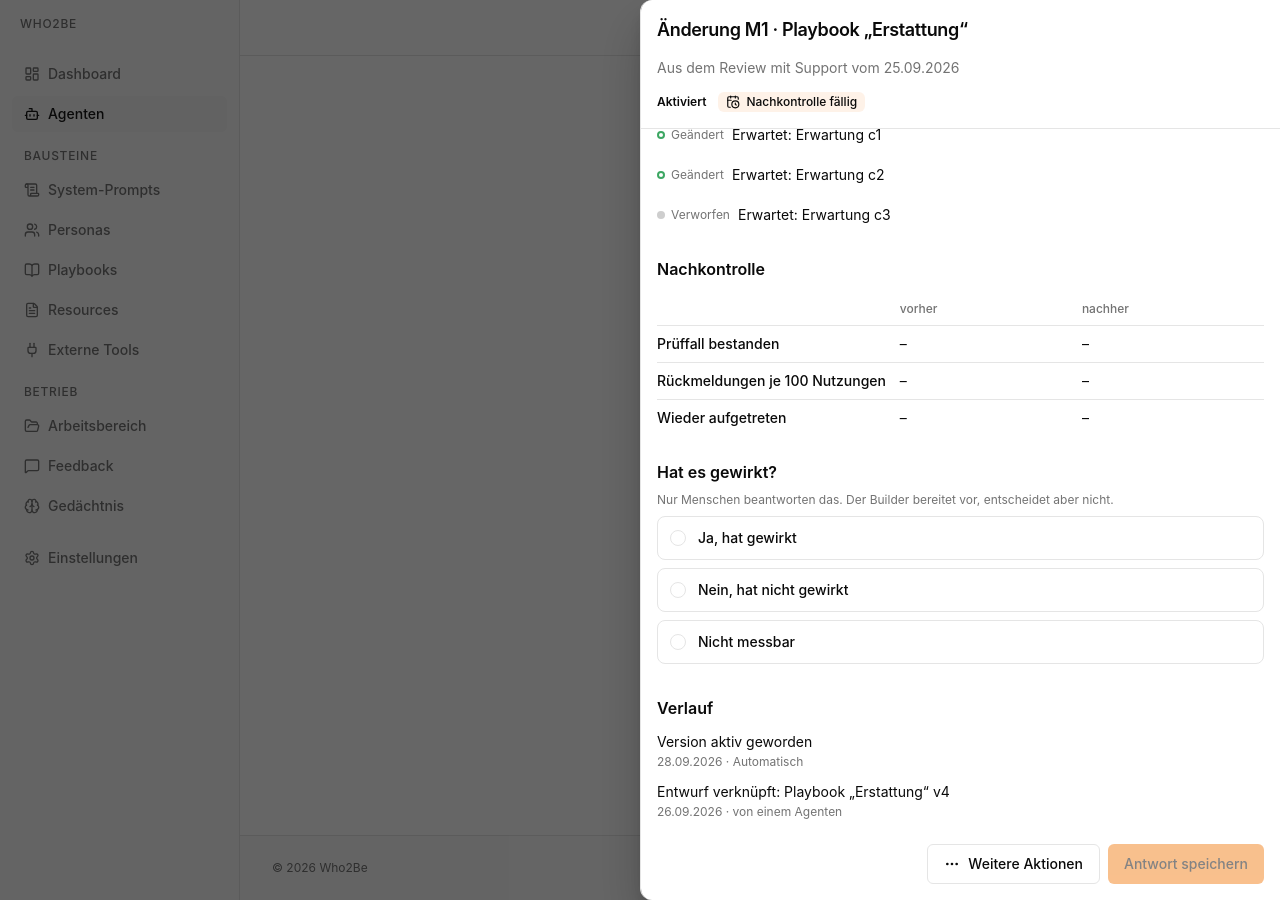
Test: ChangeActions: Hat es gewirkt? › „Ja“ ohne Notiz: Notiz optional, Request ohne note; Sheet bleibt offen, Fokus aufs Zustandswort
(page scrolled)
Click the radio button named "Ja, hat gewirkt" next to "Ja, hat gewirkt".
click(678, 538)  # box x1=670 y1=530 x2=686 y2=546
(page scrolled)
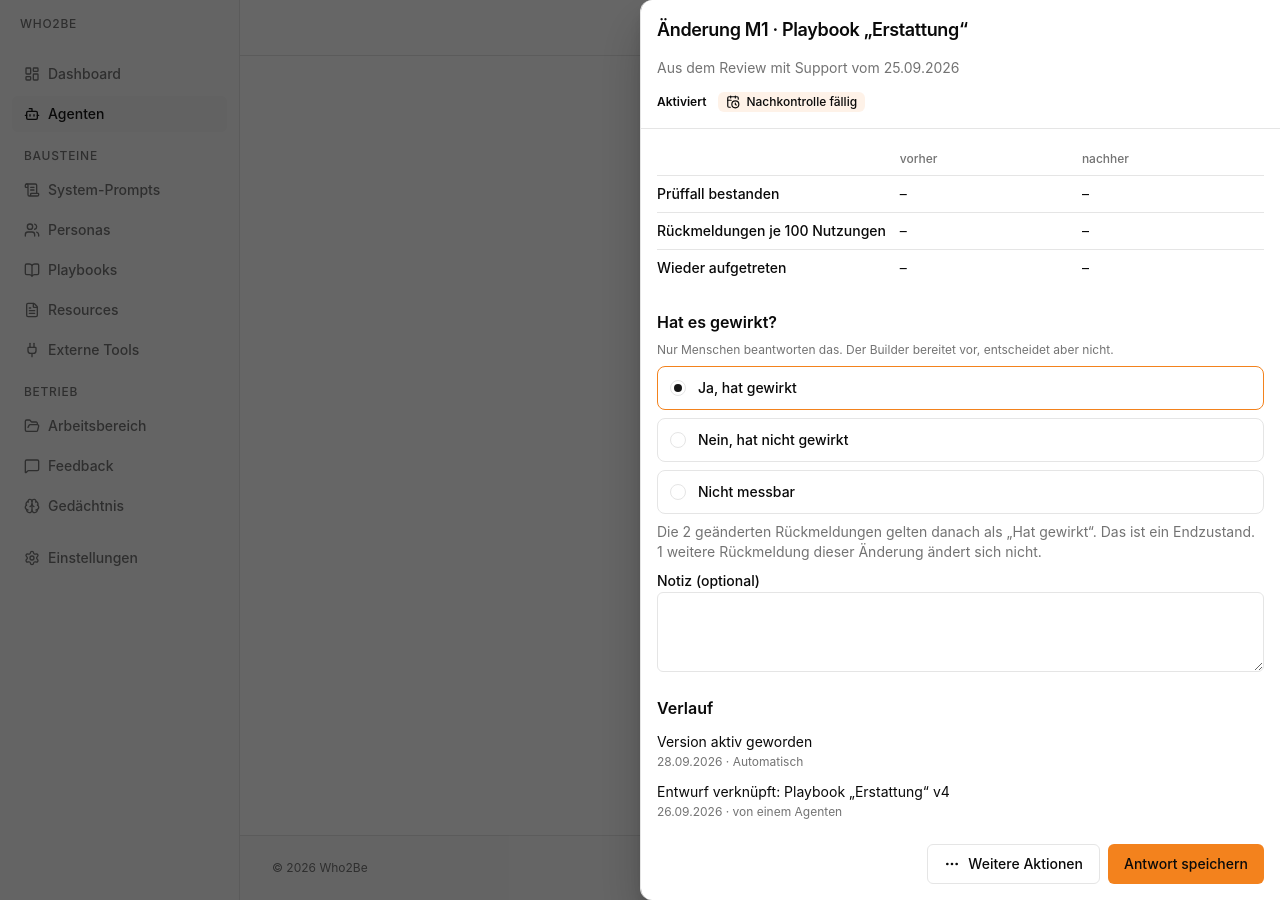
Click the button "Antwort speichern".
click(1186, 864)  # box x1=1108 y1=844 x2=1264 y2=884
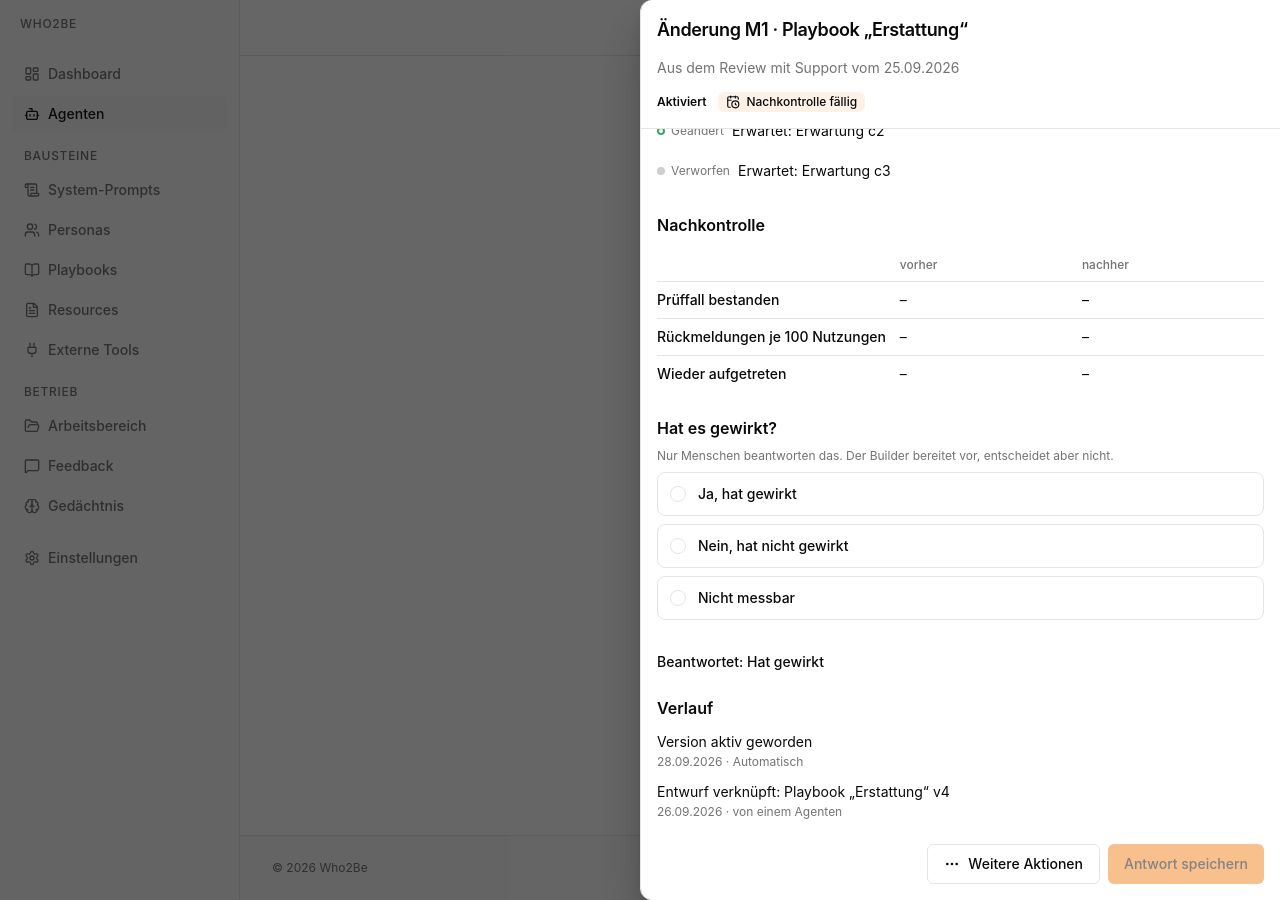
Expected: the dialog with test id "change-sheet" is shown, x1=640 y1=0 x2=1279 y2=899
Expected: the message with test id "change-review-done" reads "Beantwortet: Hat gewirkt", x1=657 y1=653 x2=824 y2=670
